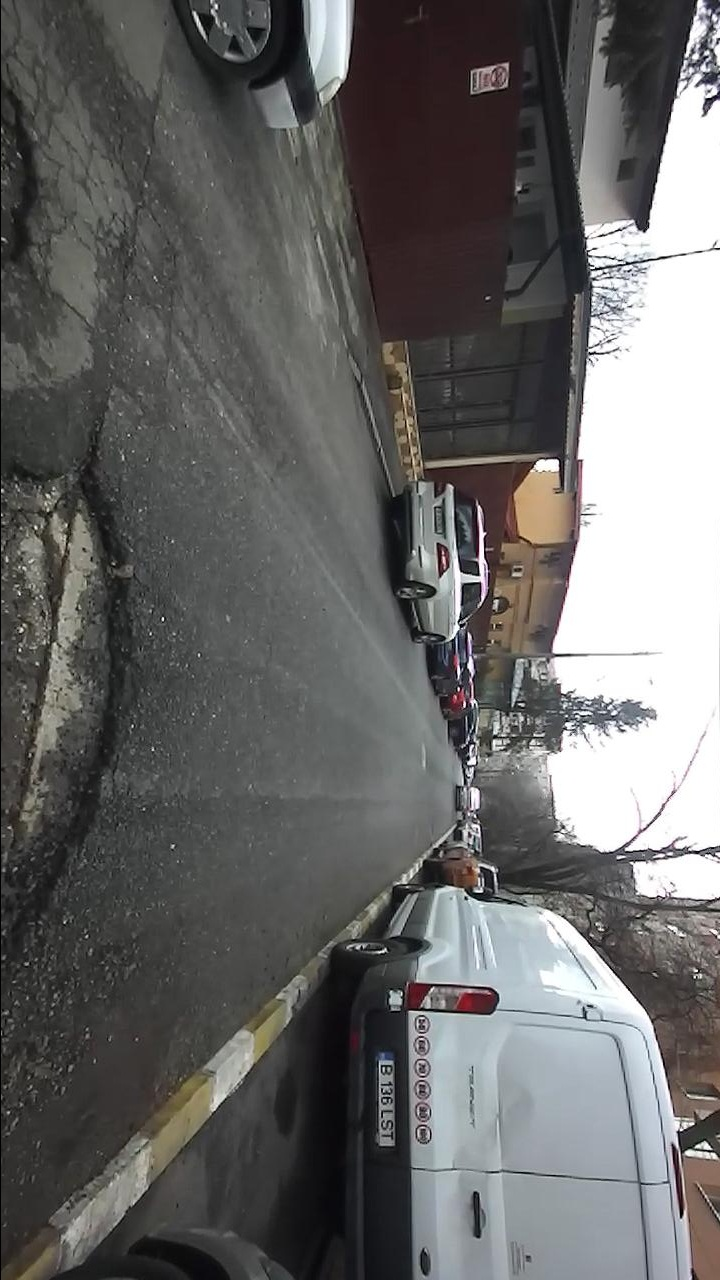pothole: (0, 438, 149, 990), (0, 76, 41, 295)
